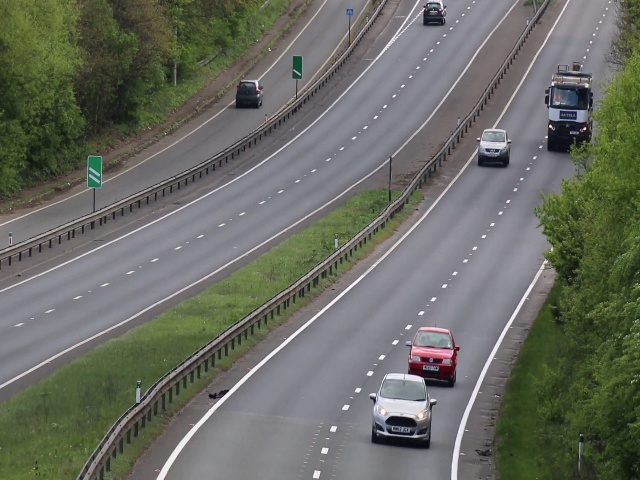car: (368, 371, 432, 449), (545, 77, 591, 156), (406, 326, 459, 389), (476, 127, 513, 168), (236, 78, 263, 108), (422, 1, 445, 28)
